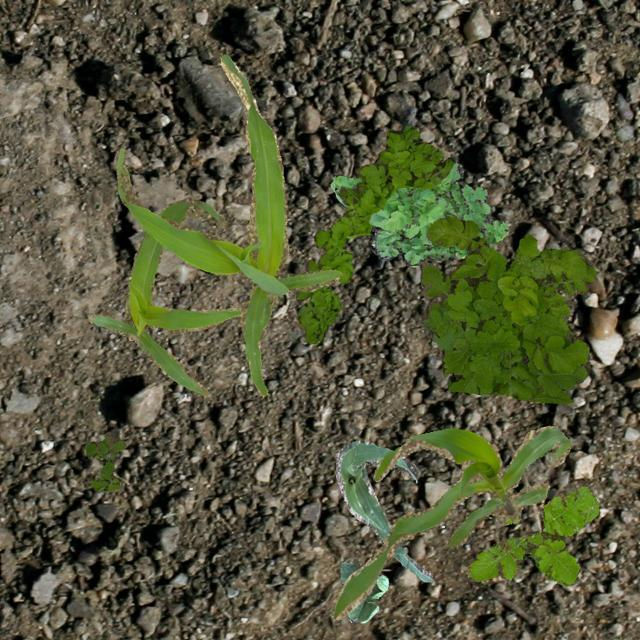crop: (115, 53, 342, 396), (332, 424, 568, 618), (87, 197, 240, 396), (336, 440, 432, 580), (340, 560, 388, 622)
weed: (294, 125, 454, 342), (420, 214, 596, 402), (330, 160, 508, 266), (463, 484, 598, 584), (84, 432, 125, 491)
